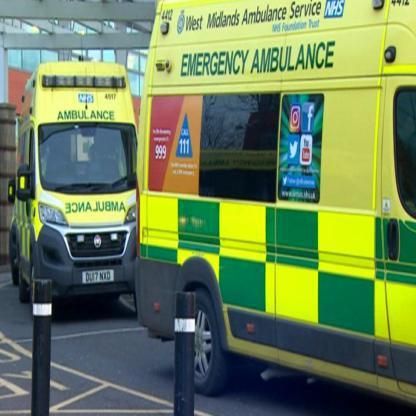Ambulance - v1 Ambulance last generate: (131, 2, 415, 334), (0, 42, 149, 327)
